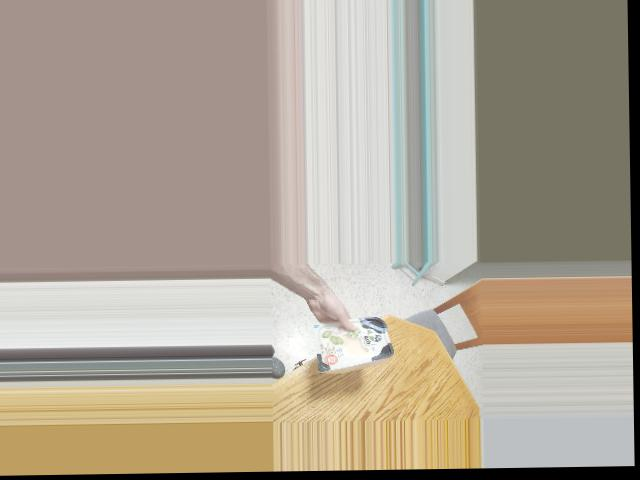cheese: (327, 309, 385, 371)
